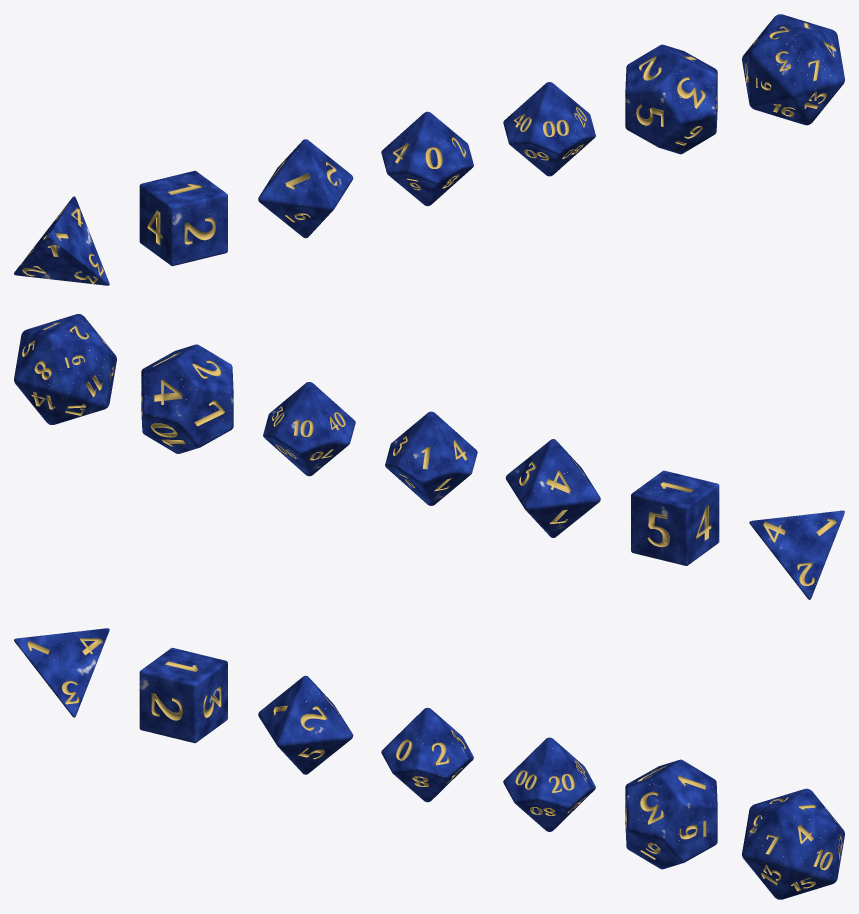
Rendered from lapis-lazuli.glb.
3 renders of one model, top to bottom at view 1: azimuth 30°, elevation 25°; view 2: azimuth 150°, elevation 25°; view 3: azimuth 330°, elevation 25°, orthographic.
Parts seen in each view (by area): view 1: d20, d12, d6, d100, d10, d8, d4; view 2: d20, d12, d6, d100, d10, d8, d4; view 3: d20, d12, d6, d8, d100, d10, d4.
Part boxes in pixels (x1,y1,x2,y2): d20: (742, 14, 844, 125); d12: (625, 44, 717, 154); d6: (139, 170, 227, 266); d100: (503, 82, 595, 176); d10: (381, 111, 473, 206); d8: (258, 139, 353, 238); d4: (14, 196, 109, 285); d20: (14, 314, 116, 424); d12: (141, 344, 233, 453); d6: (631, 470, 719, 565); d100: (263, 382, 355, 476); d10: (385, 411, 477, 505); d8: (505, 439, 600, 537); d4: (749, 510, 844, 599); d20: (742, 788, 844, 899); d12: (625, 759, 717, 869); d6: (139, 647, 227, 743); d8: (258, 675, 353, 774); d100: (503, 737, 595, 831); d10: (381, 707, 473, 802); d4: (14, 628, 109, 717).
Bounding box in the file's own units: 21.14 × 2.47 × 2.47.
Materials: 14 (7 with a texture image).
